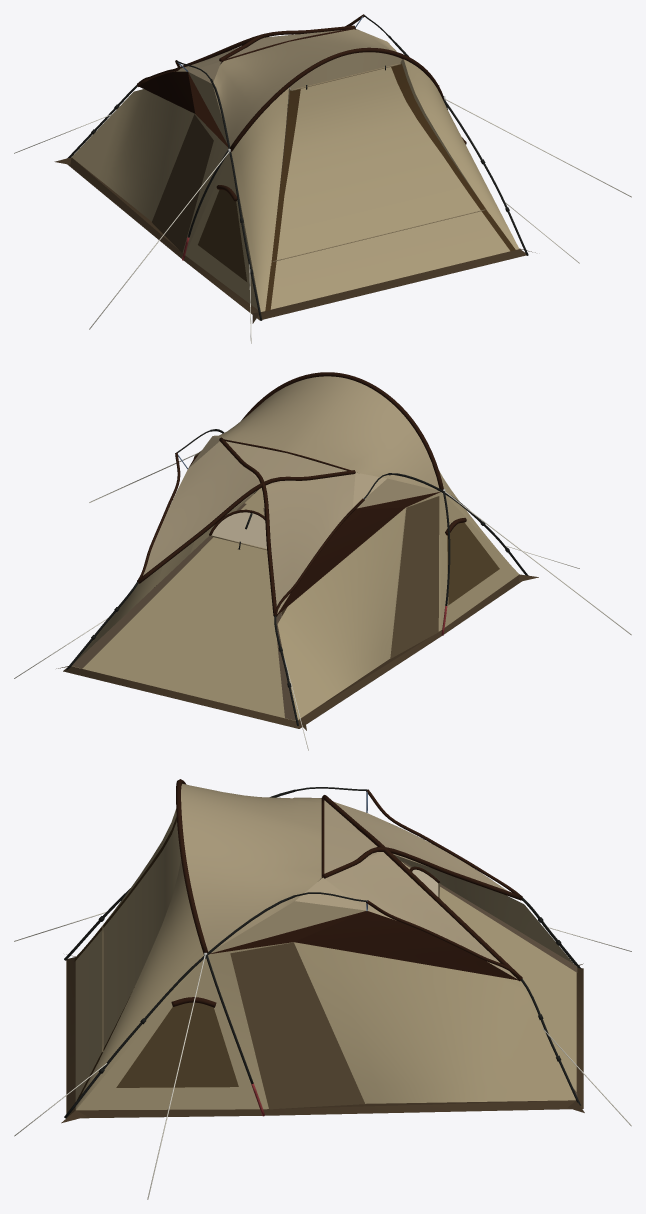
The model's file is ogawa-vigas-2.glb.
3 renders of one model, top to bottom at view 1: azimuth 30°, elevation 25°; view 2: azimuth 150°, elevation 25°; view 3: azimuth 270°, elevation 25°, orthographic. The views are drawn at different scales.
Parts seen in each view (by area): view 1: ogawa-vigas-2-canvas, ogawa-vigas-2-roof, ogawa-vigas-2-skirt, ogawa-vigas-2-mesh_door, ogawa-vigas-2-strip, ogawa-vigas-2-band, ogawa-vigas-2-mesh, ogawa-vigas-2-shade, ogawa-vigas-2-pole, ogawa-vigas-2-crest, ogawa-vigas-2-wing, ogawa-vigas-2-rope (+1 smaller); view 2: ogawa-vigas-2-canvas, ogawa-vigas-2-wing, ogawa-vigas-2-roof, ogawa-vigas-2-mesh_door, ogawa-vigas-2-band, ogawa-vigas-2-skirt, ogawa-vigas-2-shade, ogawa-vigas-2-mesh, ogawa-vigas-2-rear_band, ogawa-vigas-2-pole, ogawa-vigas-2-vent, ogawa-vigas-2-rope; view 3: ogawa-vigas-2-canvas, ogawa-vigas-2-roof, ogawa-vigas-2-mesh_door, ogawa-vigas-2-wing, ogawa-vigas-2-skirt, ogawa-vigas-2-mesh, ogawa-vigas-2-shade, ogawa-vigas-2-band, ogawa-vigas-2-pole, ogawa-vigas-2-rope, ogawa-vigas-2-rear_band, ogawa-vigas-2-strip.
Boxes of the visible parts, left/top/right/bottom form: ogawa-vigas-2-canvas: left=71, top=59, right=519, bottom=311; ogawa-vigas-2-roof: left=188, top=29, right=407, bottom=146; ogawa-vigas-2-skirt: left=54, top=104, right=535, bottom=323; ogawa-vigas-2-mesh_door: left=152, top=85, right=439, bottom=253; ogawa-vigas-2-strip: left=265, top=63, right=515, bottom=311; ogawa-vigas-2-band: left=137, top=14, right=466, bottom=201; ogawa-vigas-2-mesh: left=198, top=190, right=246, bottom=281; ogawa-vigas-2-shade: left=139, top=71, right=228, bottom=147; ogawa-vigas-2-pole: left=67, top=15, right=528, bottom=320; ogawa-vigas-2-crest: left=290, top=52, right=401, bottom=89; ogawa-vigas-2-wing: left=176, top=29, right=359, bottom=83; ogawa-vigas-2-rope: left=14, top=99, right=631, bottom=343; ogawa-vigas-2-canvas: left=72, top=470, right=519, bottom=720; ogawa-vigas-2-wing: left=143, top=436, right=386, bottom=613; ogawa-vigas-2-roof: left=213, top=376, right=439, bottom=508; ogawa-vigas-2-mesh_door: left=193, top=450, right=439, bottom=658; ogawa-vigas-2-band: left=137, top=372, right=466, bottom=616; ogawa-vigas-2-skirt: left=56, top=574, right=538, bottom=730; ogawa-vigas-2-shade: left=189, top=455, right=440, bottom=614; ogawa-vigas-2-mesh: left=447, top=522, right=499, bottom=605; ogawa-vigas-2-rear_band: left=72, top=503, right=295, bottom=720; ogawa-vigas-2-pole: left=66, top=429, right=528, bottom=725; ogawa-vigas-2-vent: left=211, top=512, right=266, bottom=548; ogawa-vigas-2-rope: left=14, top=452, right=631, bottom=750; ogawa-vigas-2-canvas: left=75, top=809, right=576, bottom=1110; ogawa-vigas-2-roof: left=181, top=783, right=365, bottom=953; ogawa-vigas-2-mesh_door: left=230, top=942, right=364, bottom=1109; ogawa-vigas-2-wing: left=295, top=798, right=516, bottom=978; ogawa-vigas-2-skirt: left=61, top=954, right=584, bottom=1123; ogawa-vigas-2-mesh: left=116, top=1002, right=238, bottom=1087; ogawa-vigas-2-shade: left=210, top=838, right=518, bottom=980; ogawa-vigas-2-band: left=171, top=779, right=522, bottom=1007; ogawa-vigas-2-pole: left=64, top=787, right=580, bottom=1118; ogawa-vigas-2-rope: left=14, top=911, right=631, bottom=1199; ogawa-vigas-2-rear_band: left=404, top=862, right=577, bottom=1096; ogawa-vigas-2-strip: left=74, top=817, right=176, bottom=1099.
Size of the model in its own units: 5.25 by 1.89 by 4.26.
